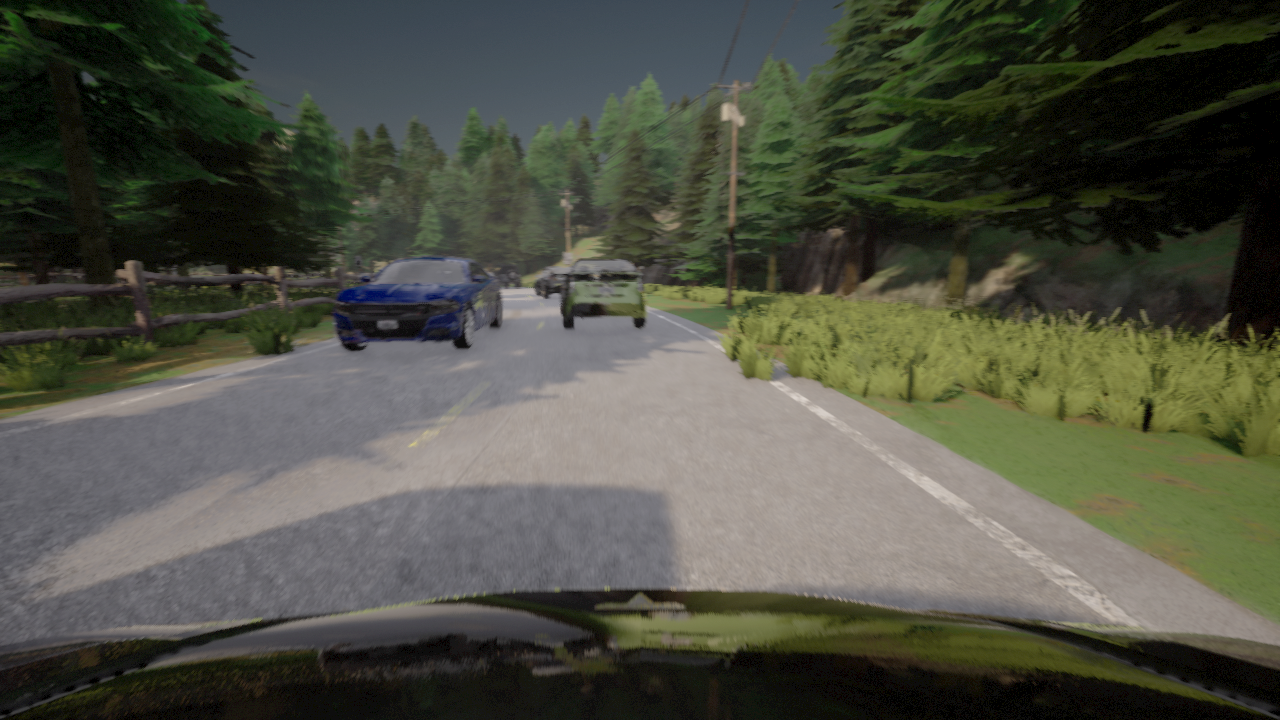cyclist: (0, 588, 1279, 719), (333, 256, 501, 351), (557, 259, 646, 329), (535, 267, 570, 297), (489, 264, 520, 288), (354, 280, 357, 281)
